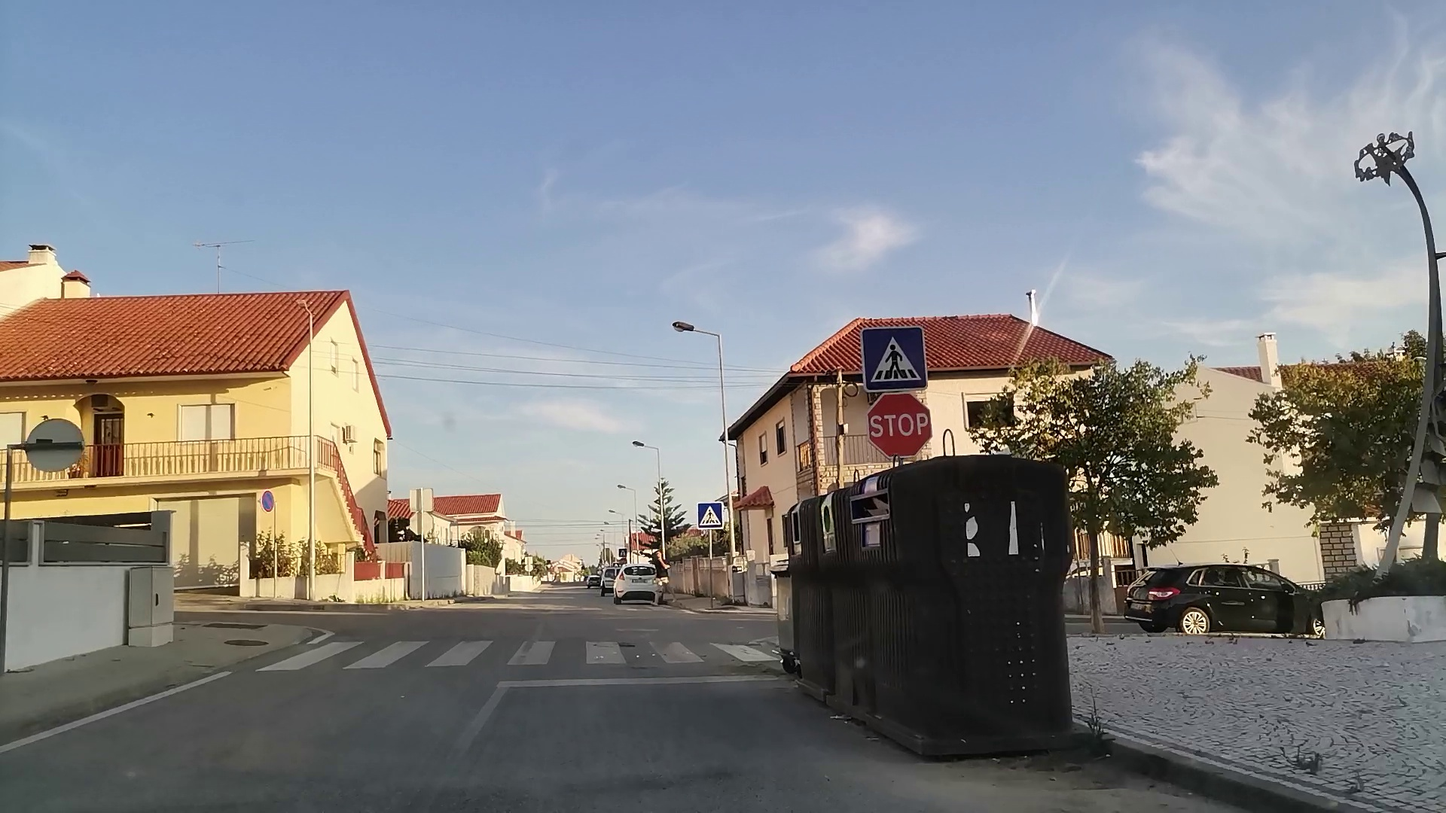Stairs: (258, 634, 788, 691)
